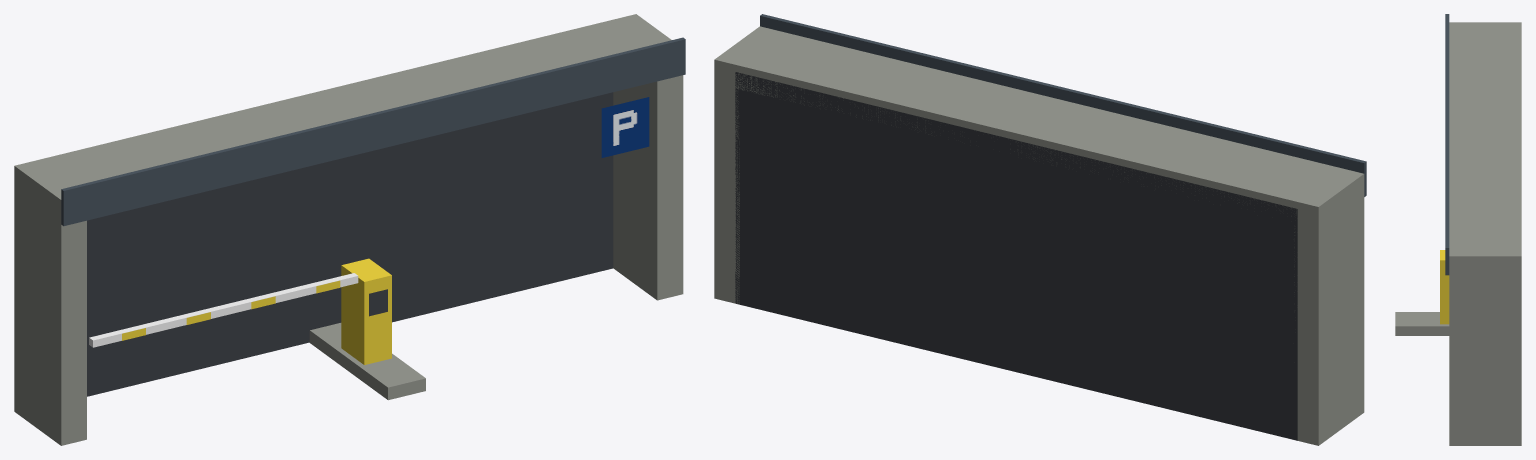
File: entrance.fbx
The picture shows the model from 3 angles, left to right: view 1: azimuth 30°, elevation 25°; view 2: azimuth 150°, elevation 25°; view 3: azimuth 270°, elevation 25°; orthographic projection. The views are drawn at different scales.
Parts seen in each view (by area): view 1: a3005/0/entrance; view 2: a3005/0/entrance; view 3: a3005/0/entrance.
Part boxes in pixels (<box>): a3005/0/entrance: <box>14,14,685,445</box>; a3005/0/entrance: <box>714,14,1366,445</box>; a3005/0/entrance: <box>1395,14,1521,445</box>.
Bounding box in the file's own units: 7.2 × 2.84 × 1.64.
